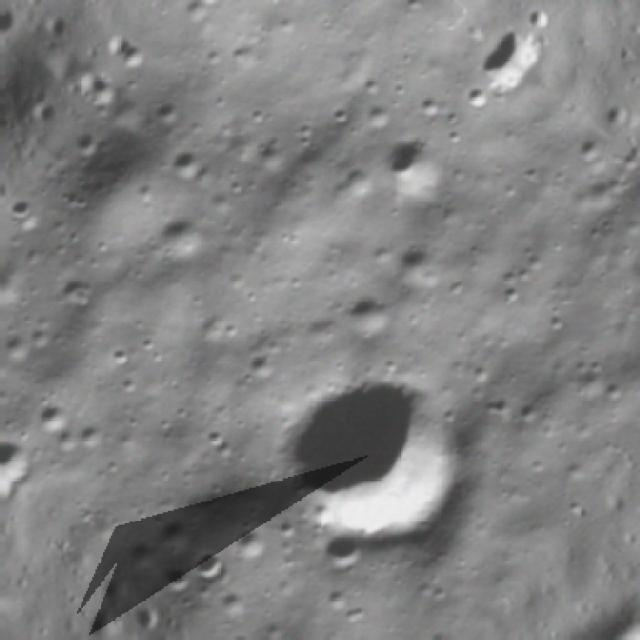crater: (261, 346, 497, 576), (370, 127, 447, 207), (465, 42, 533, 104), (385, 236, 453, 298), (144, 210, 207, 272), (333, 280, 396, 340), (313, 523, 376, 583), (0, 432, 42, 491), (27, 396, 76, 444), (232, 521, 274, 564), (188, 542, 229, 584), (165, 148, 206, 189), (0, 194, 38, 237), (99, 340, 136, 377), (116, 44, 152, 81), (218, 626, 268, 640)
